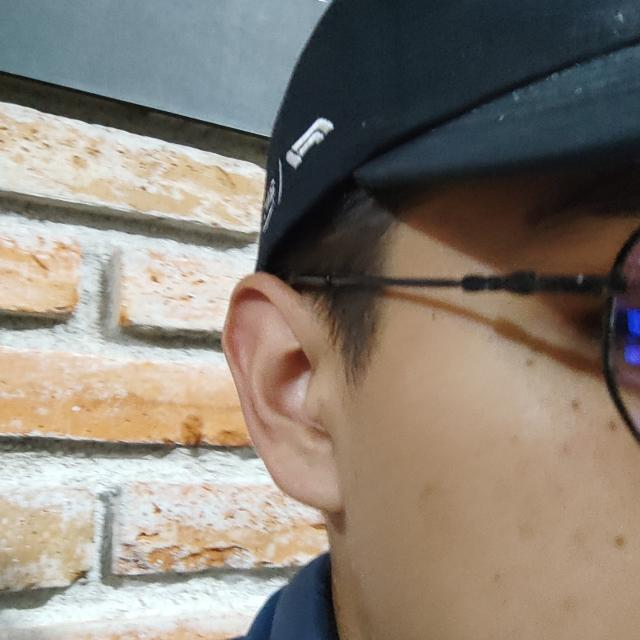ear: (222, 272, 348, 512)
